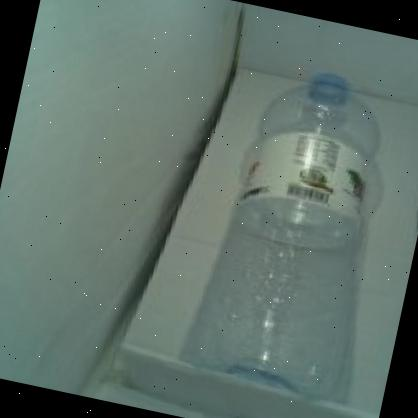bottle: (152, 30, 418, 418)
label: (223, 124, 372, 222)
